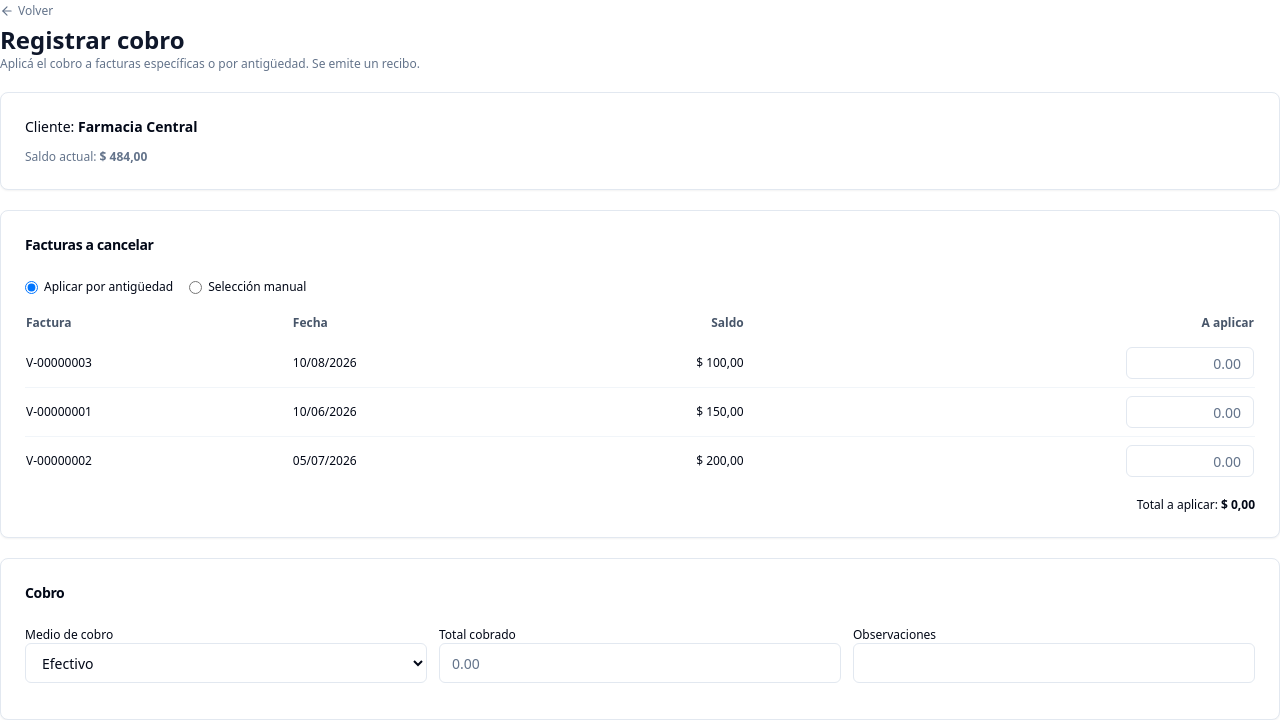
Test: PaymentFormPage › keeps submit disabled while applied and collected totals differ (manual mode)
The width and height of the screenshot is (1280, 720).
Check: the text "V-00000001" is shown, box [25, 388, 292, 436]
Click the radio button labelled "Selección manual" at (196,287), box [189, 280, 202, 294]
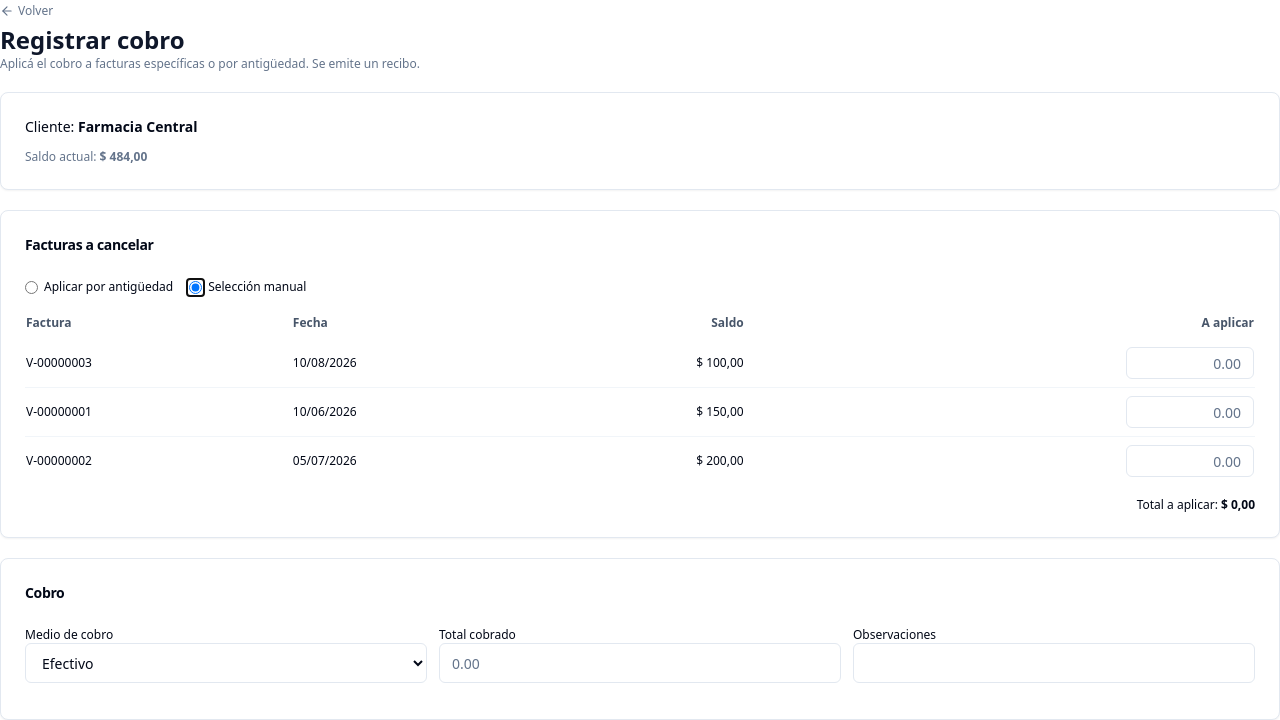
Type "100.00" into the field labelled "Total cobrado" at (640,663), box [439, 643, 841, 683]
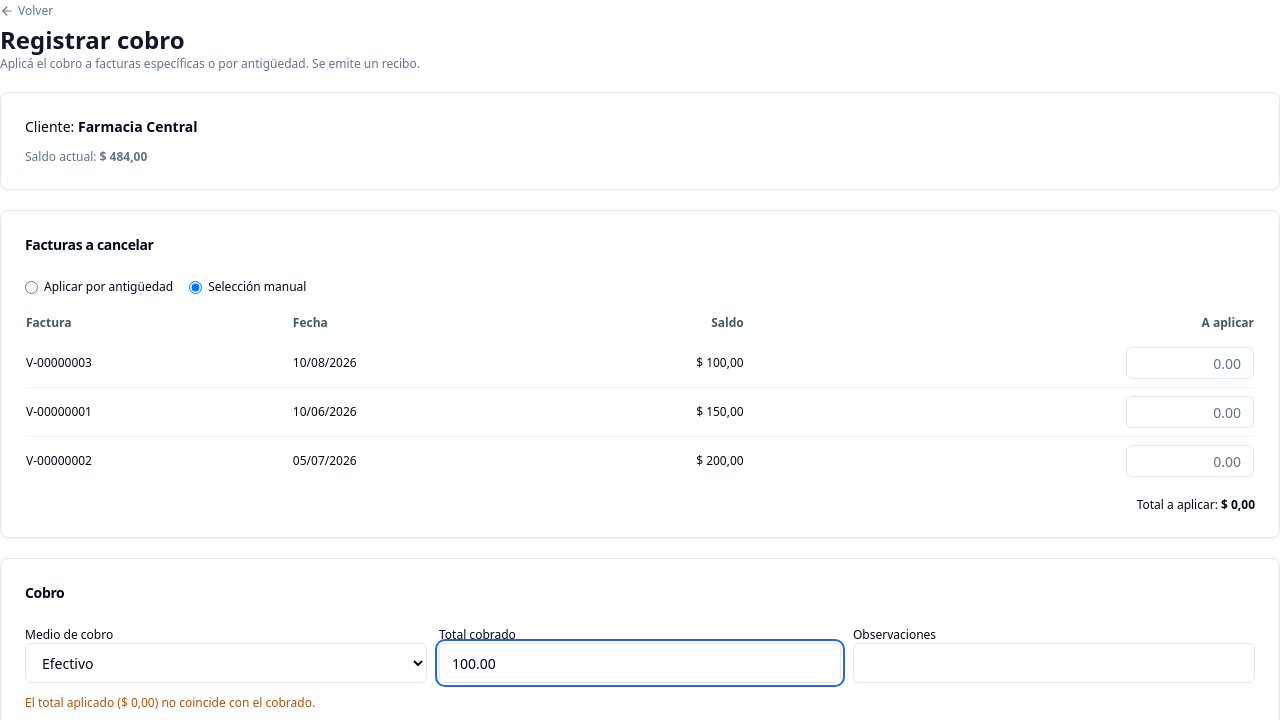
Type "80.00" into the field with placeholder "0.00" in the row of "V-00000001" at (1190,412), box [1126, 396, 1254, 428]
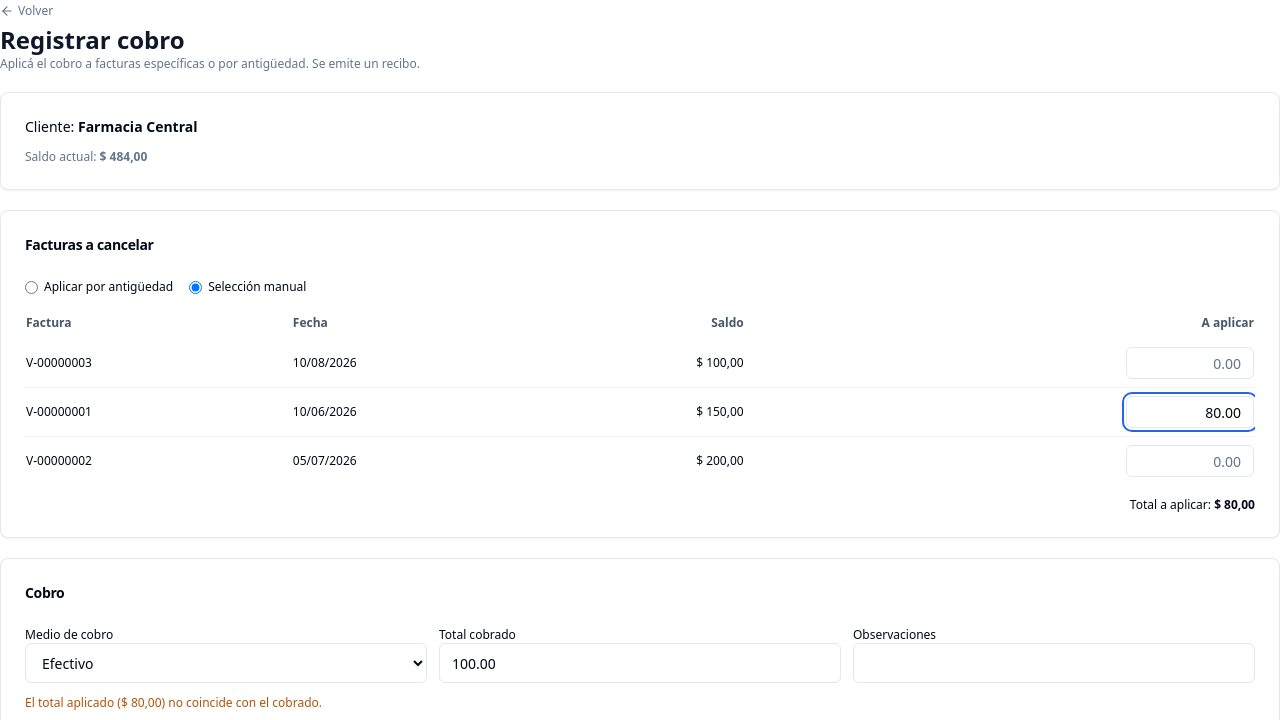
Check: the text "El total aplicado ($ 80,00) no coincide con el cobrado." is shown, box [25, 694, 322, 711]
Replace the text in the field named "Monto a aplicar V-00000001" with "100.00" at (1190,412), box [1126, 396, 1254, 428]
(page scrolled)
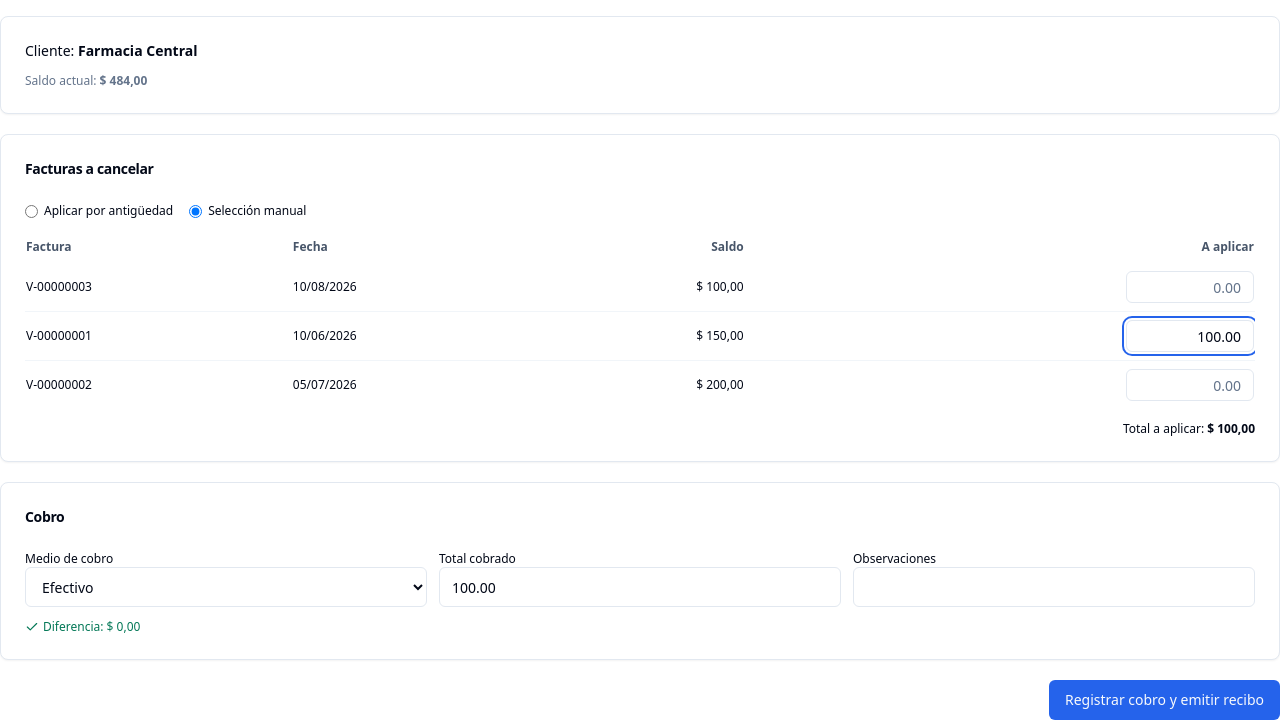
Check: the button "Registrar cobro y emitir recibo" is enabled, box [1049, 680, 1279, 719]
